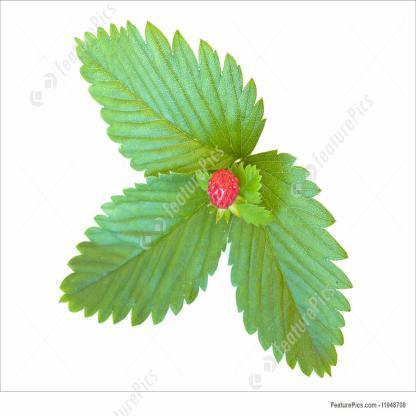Strawberry leaf: (73, 18, 267, 184), (224, 149, 354, 379), (56, 166, 232, 328)
